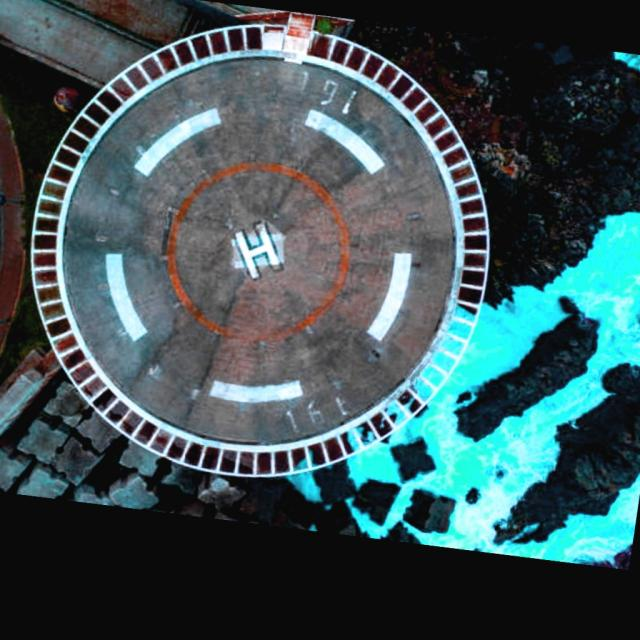helipad: (158, 154, 356, 349)
